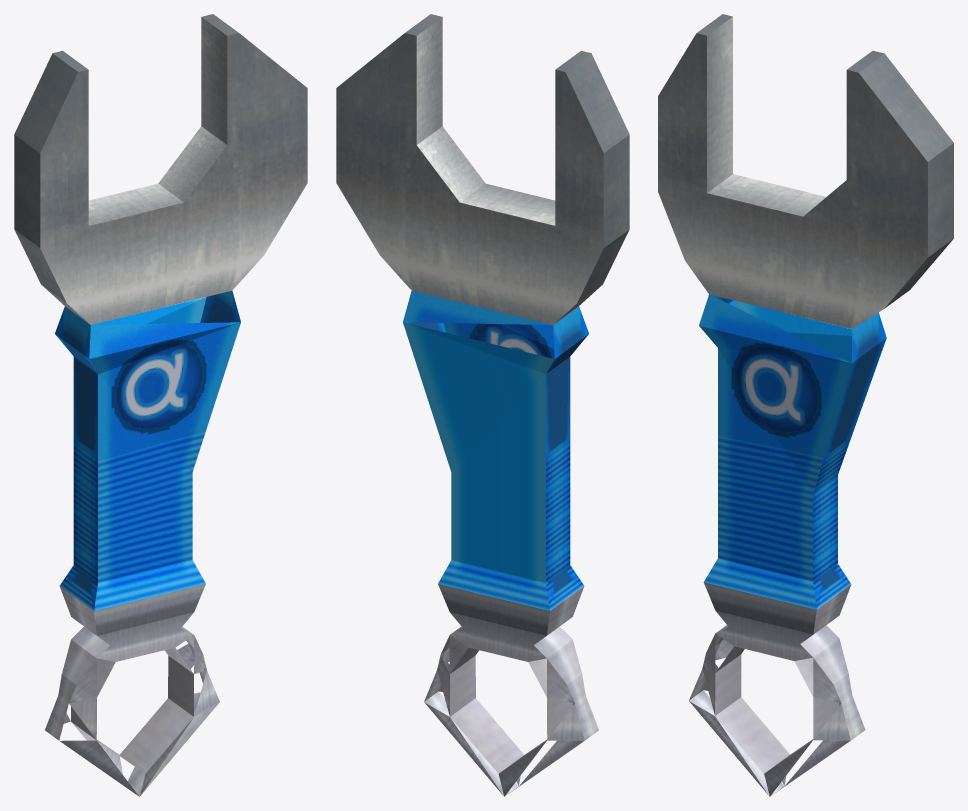
Rendered from datan_common_spanner_d77d88e9.obj.
3 views of the same model, side by side, from view 1: azimuth 30°, elevation 25°; view 2: azimuth 150°, elevation 25°; view 3: azimuth 330°, elevation 25° (orthographic).
Parts seen in each view (by area): view 1: datan_common_spanner_d77d88e9; view 2: datan_common_spanner_d77d88e9; view 3: datan_common_spanner_d77d88e9.
Boxes of the visible parts, x1,y1,x2,y2 form: datan_common_spanner_d77d88e9: (14, 14, 307, 796); datan_common_spanner_d77d88e9: (336, 14, 629, 796); datan_common_spanner_d77d88e9: (658, 14, 953, 796).
Size of the model in its own units: 59.58 by 159 by 13.31.
Materials: 1 (1 with a texture image).
